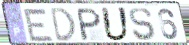6: (157, 8, 180, 41)
D: (49, 6, 77, 43)
E: (22, 7, 56, 43)
P: (76, 7, 102, 42)
S: (128, 7, 156, 42)
U: (100, 6, 131, 43)
